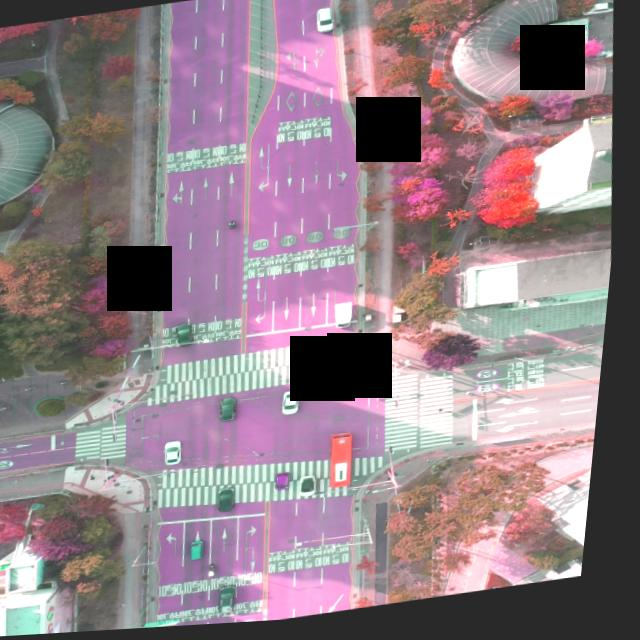car: (226, 584, 253, 616), (225, 488, 248, 515), (314, 10, 336, 36), (224, 400, 246, 426), (181, 323, 203, 349), (288, 394, 310, 419), (172, 442, 193, 467), (309, 478, 328, 500), (282, 474, 302, 494), (199, 542, 217, 563)
large_bus: (334, 435, 364, 491)
small_truck: (339, 304, 364, 333)
